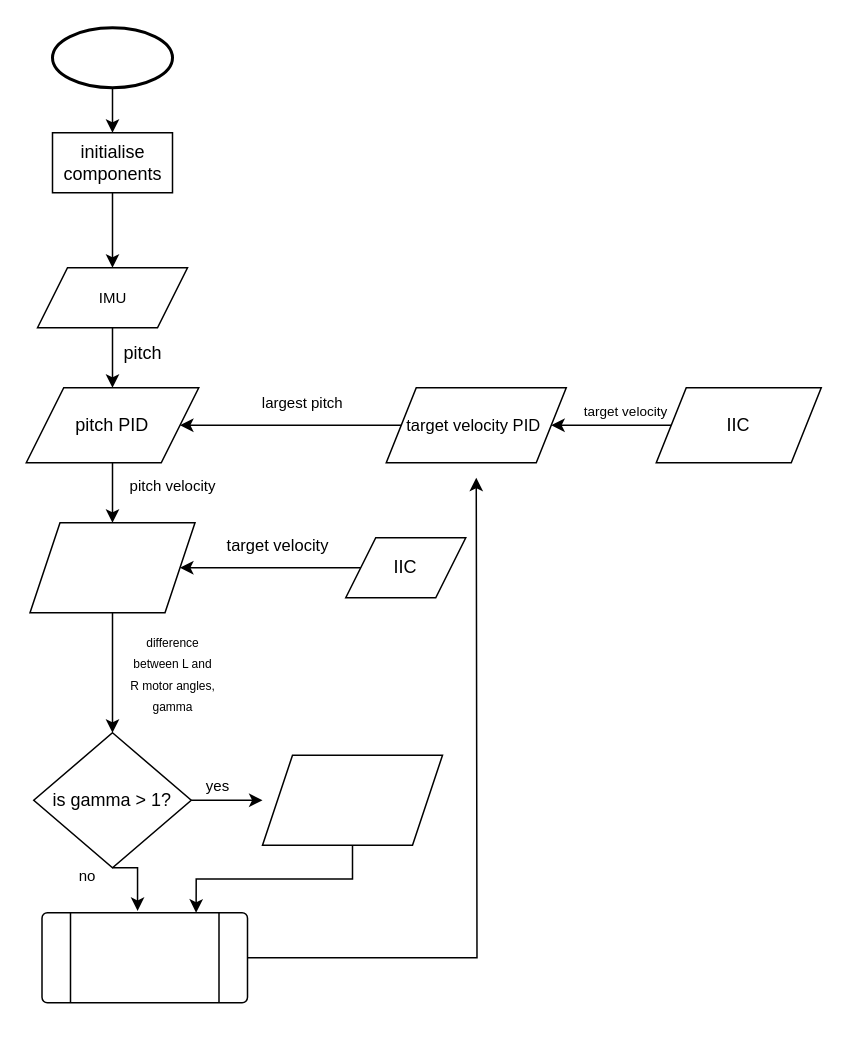
The diagram is 848 pixels wide and 1059 high, and some of its shapes have lost their labels. The shapes that lost their labels are listed below. From the top down, each one's centre as x and y in pixels, then its label:
At pixel 111 57: "start".
At pixel 111 567: "target yaw PID".
At pixel 351 799: "2arctan(gamma)/pi".
At pixel 144 957: "overall angular velociy".
